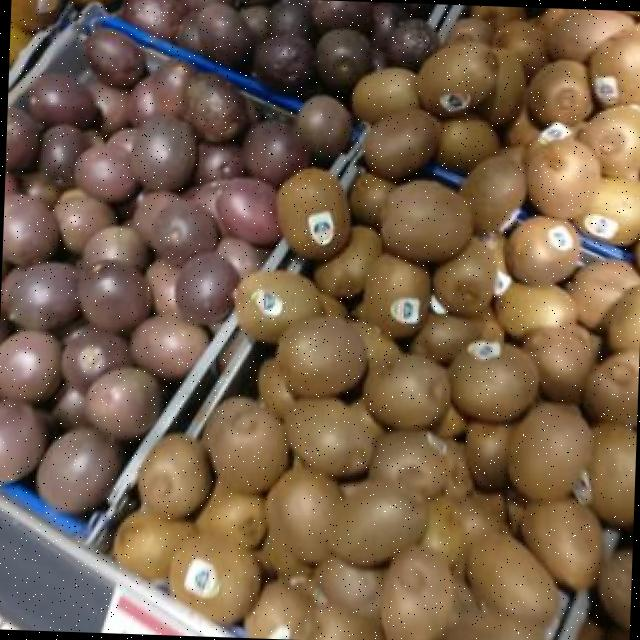kiwi: (467, 533, 558, 624), (329, 481, 425, 566), (202, 397, 286, 494), (169, 535, 259, 624), (510, 404, 592, 501), (285, 398, 379, 477), (521, 500, 602, 589), (276, 317, 366, 397), (450, 340, 537, 422), (383, 180, 469, 262), (381, 546, 453, 640), (277, 167, 350, 259), (274, 467, 341, 563), (235, 270, 323, 342), (365, 353, 448, 429), (138, 434, 211, 518), (523, 324, 600, 402), (526, 137, 600, 218), (360, 253, 429, 337), (112, 510, 195, 579), (420, 44, 497, 116), (364, 108, 439, 179), (505, 215, 579, 285), (370, 430, 446, 497), (460, 155, 526, 231), (589, 422, 636, 526), (433, 239, 496, 316), (314, 225, 381, 297), (569, 261, 640, 328), (577, 104, 640, 179), (575, 177, 640, 245), (547, 10, 633, 61), (495, 282, 573, 338), (197, 485, 266, 547), (315, 556, 381, 619), (529, 61, 592, 126), (585, 350, 639, 425), (589, 27, 640, 106), (352, 67, 419, 122), (246, 585, 312, 639), (410, 315, 480, 363), (466, 422, 513, 491), (437, 118, 499, 169), (493, 20, 547, 78), (455, 491, 508, 550), (420, 496, 464, 565), (443, 611, 543, 640), (598, 549, 632, 628), (350, 173, 395, 228), (311, 606, 382, 640), (490, 48, 524, 116), (258, 357, 295, 417), (606, 285, 640, 350), (354, 321, 400, 369), (447, 18, 492, 44), (471, 6, 524, 28)
